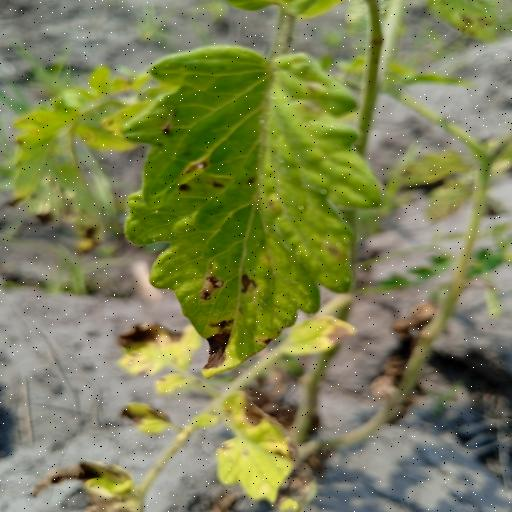Tomato_Brown_Spots: (116, 42, 392, 380)
